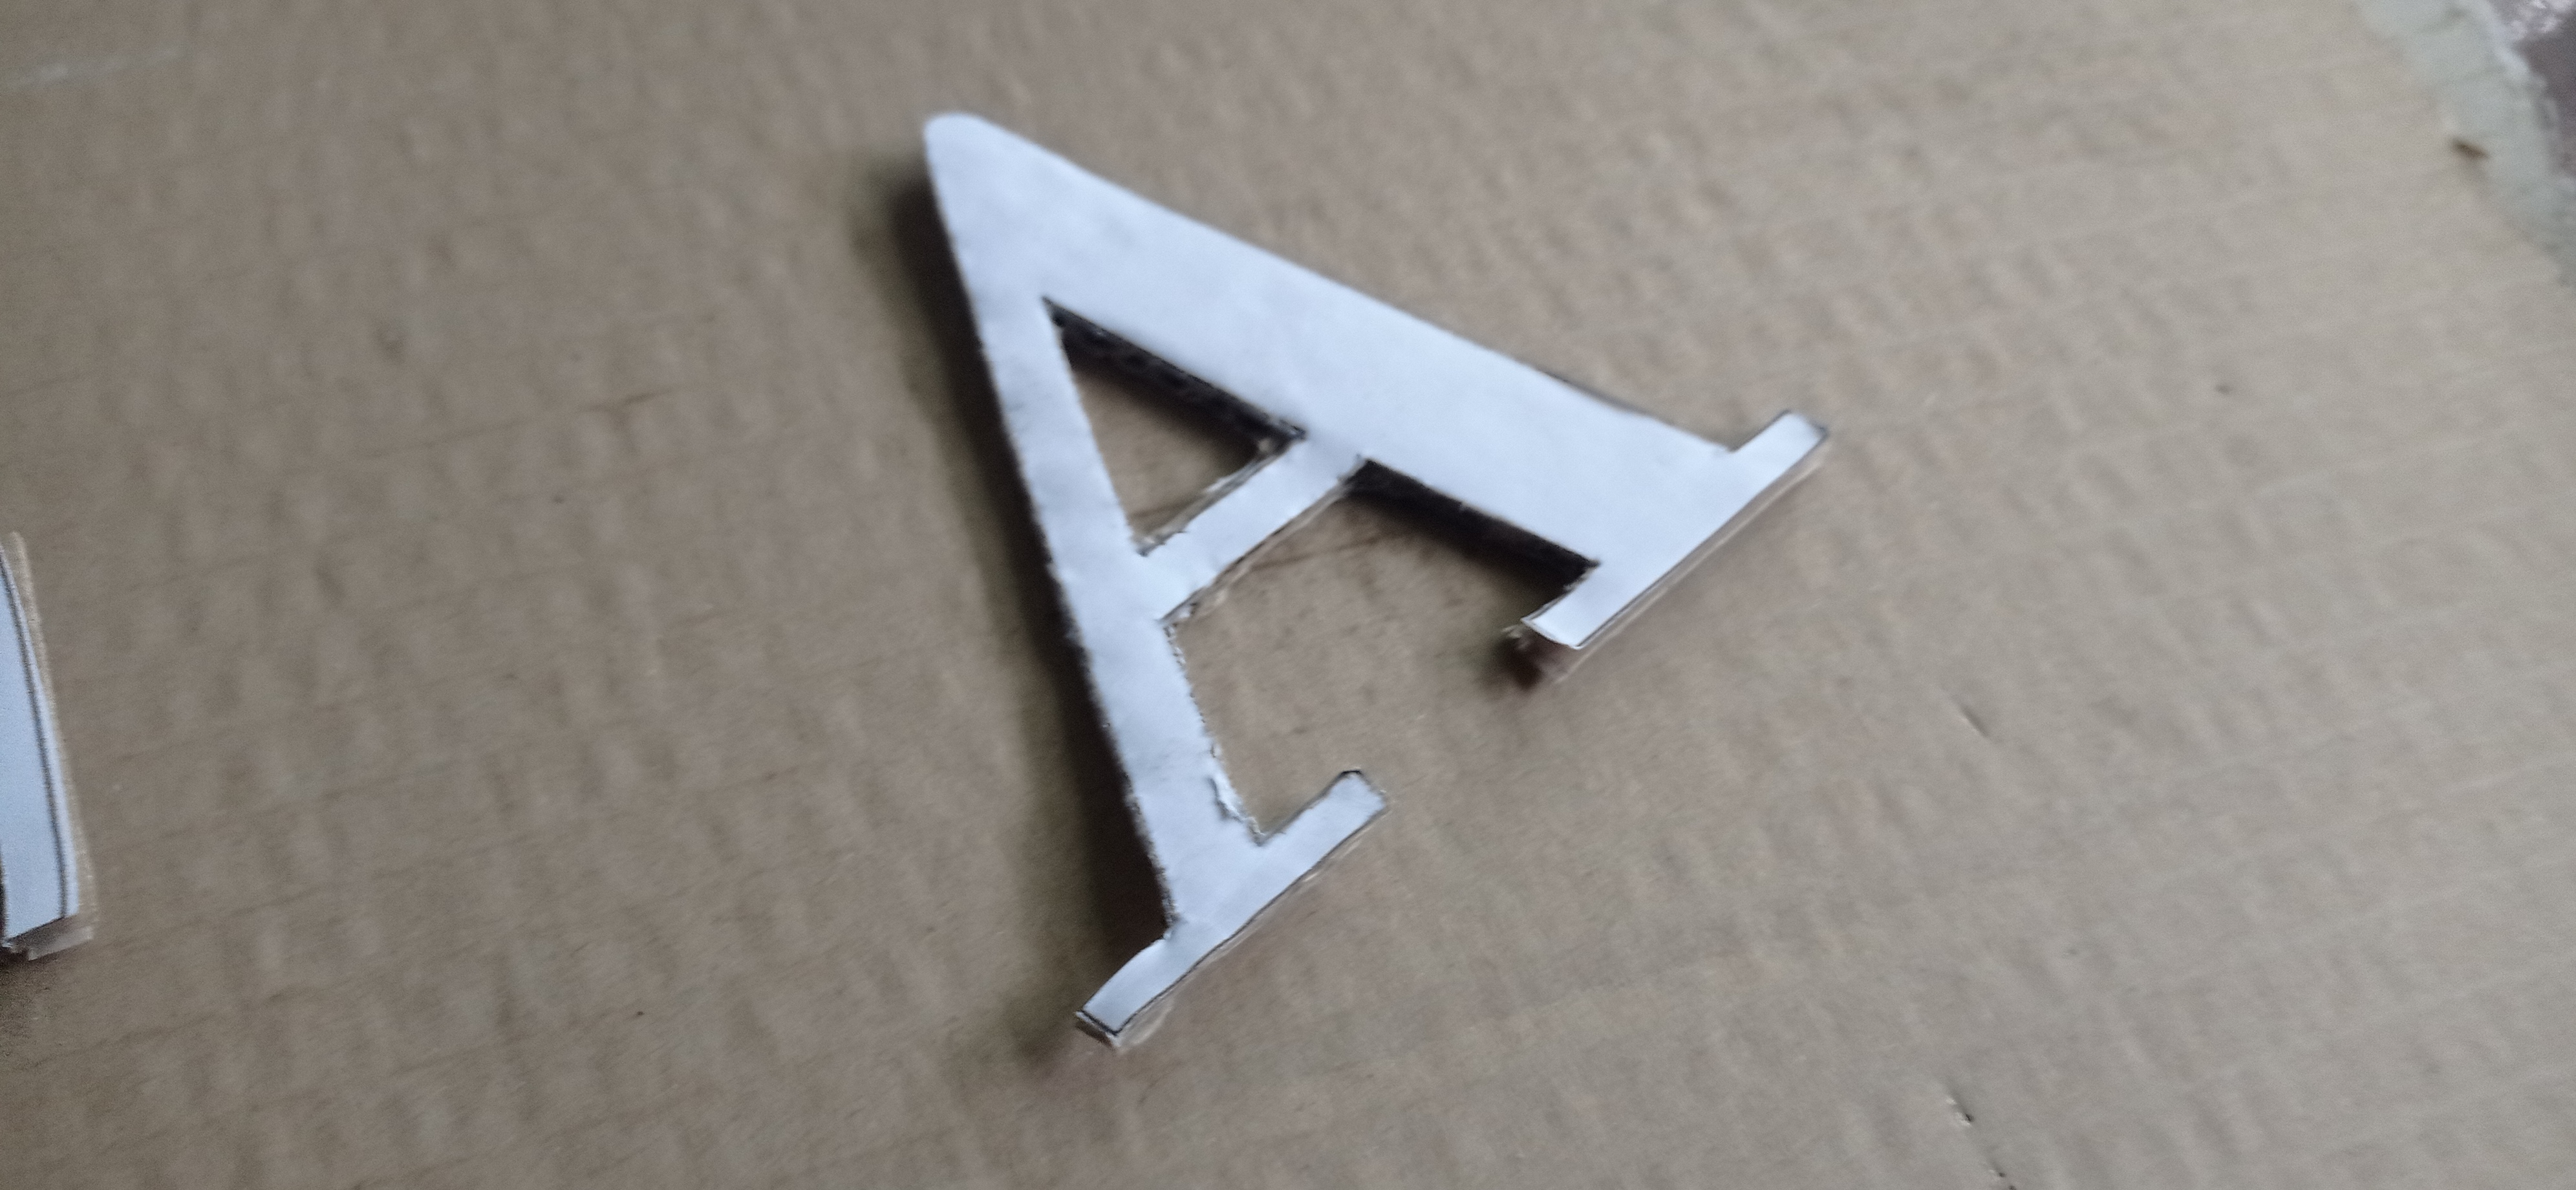a: (918, 107, 1842, 1063)
